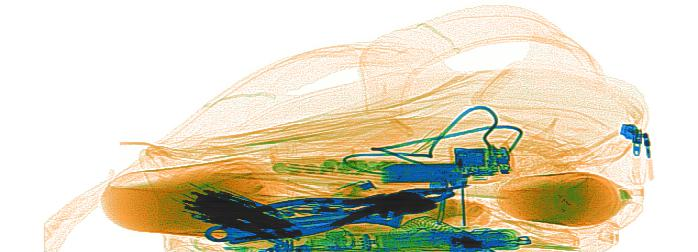battery: (372, 229, 515, 249)
